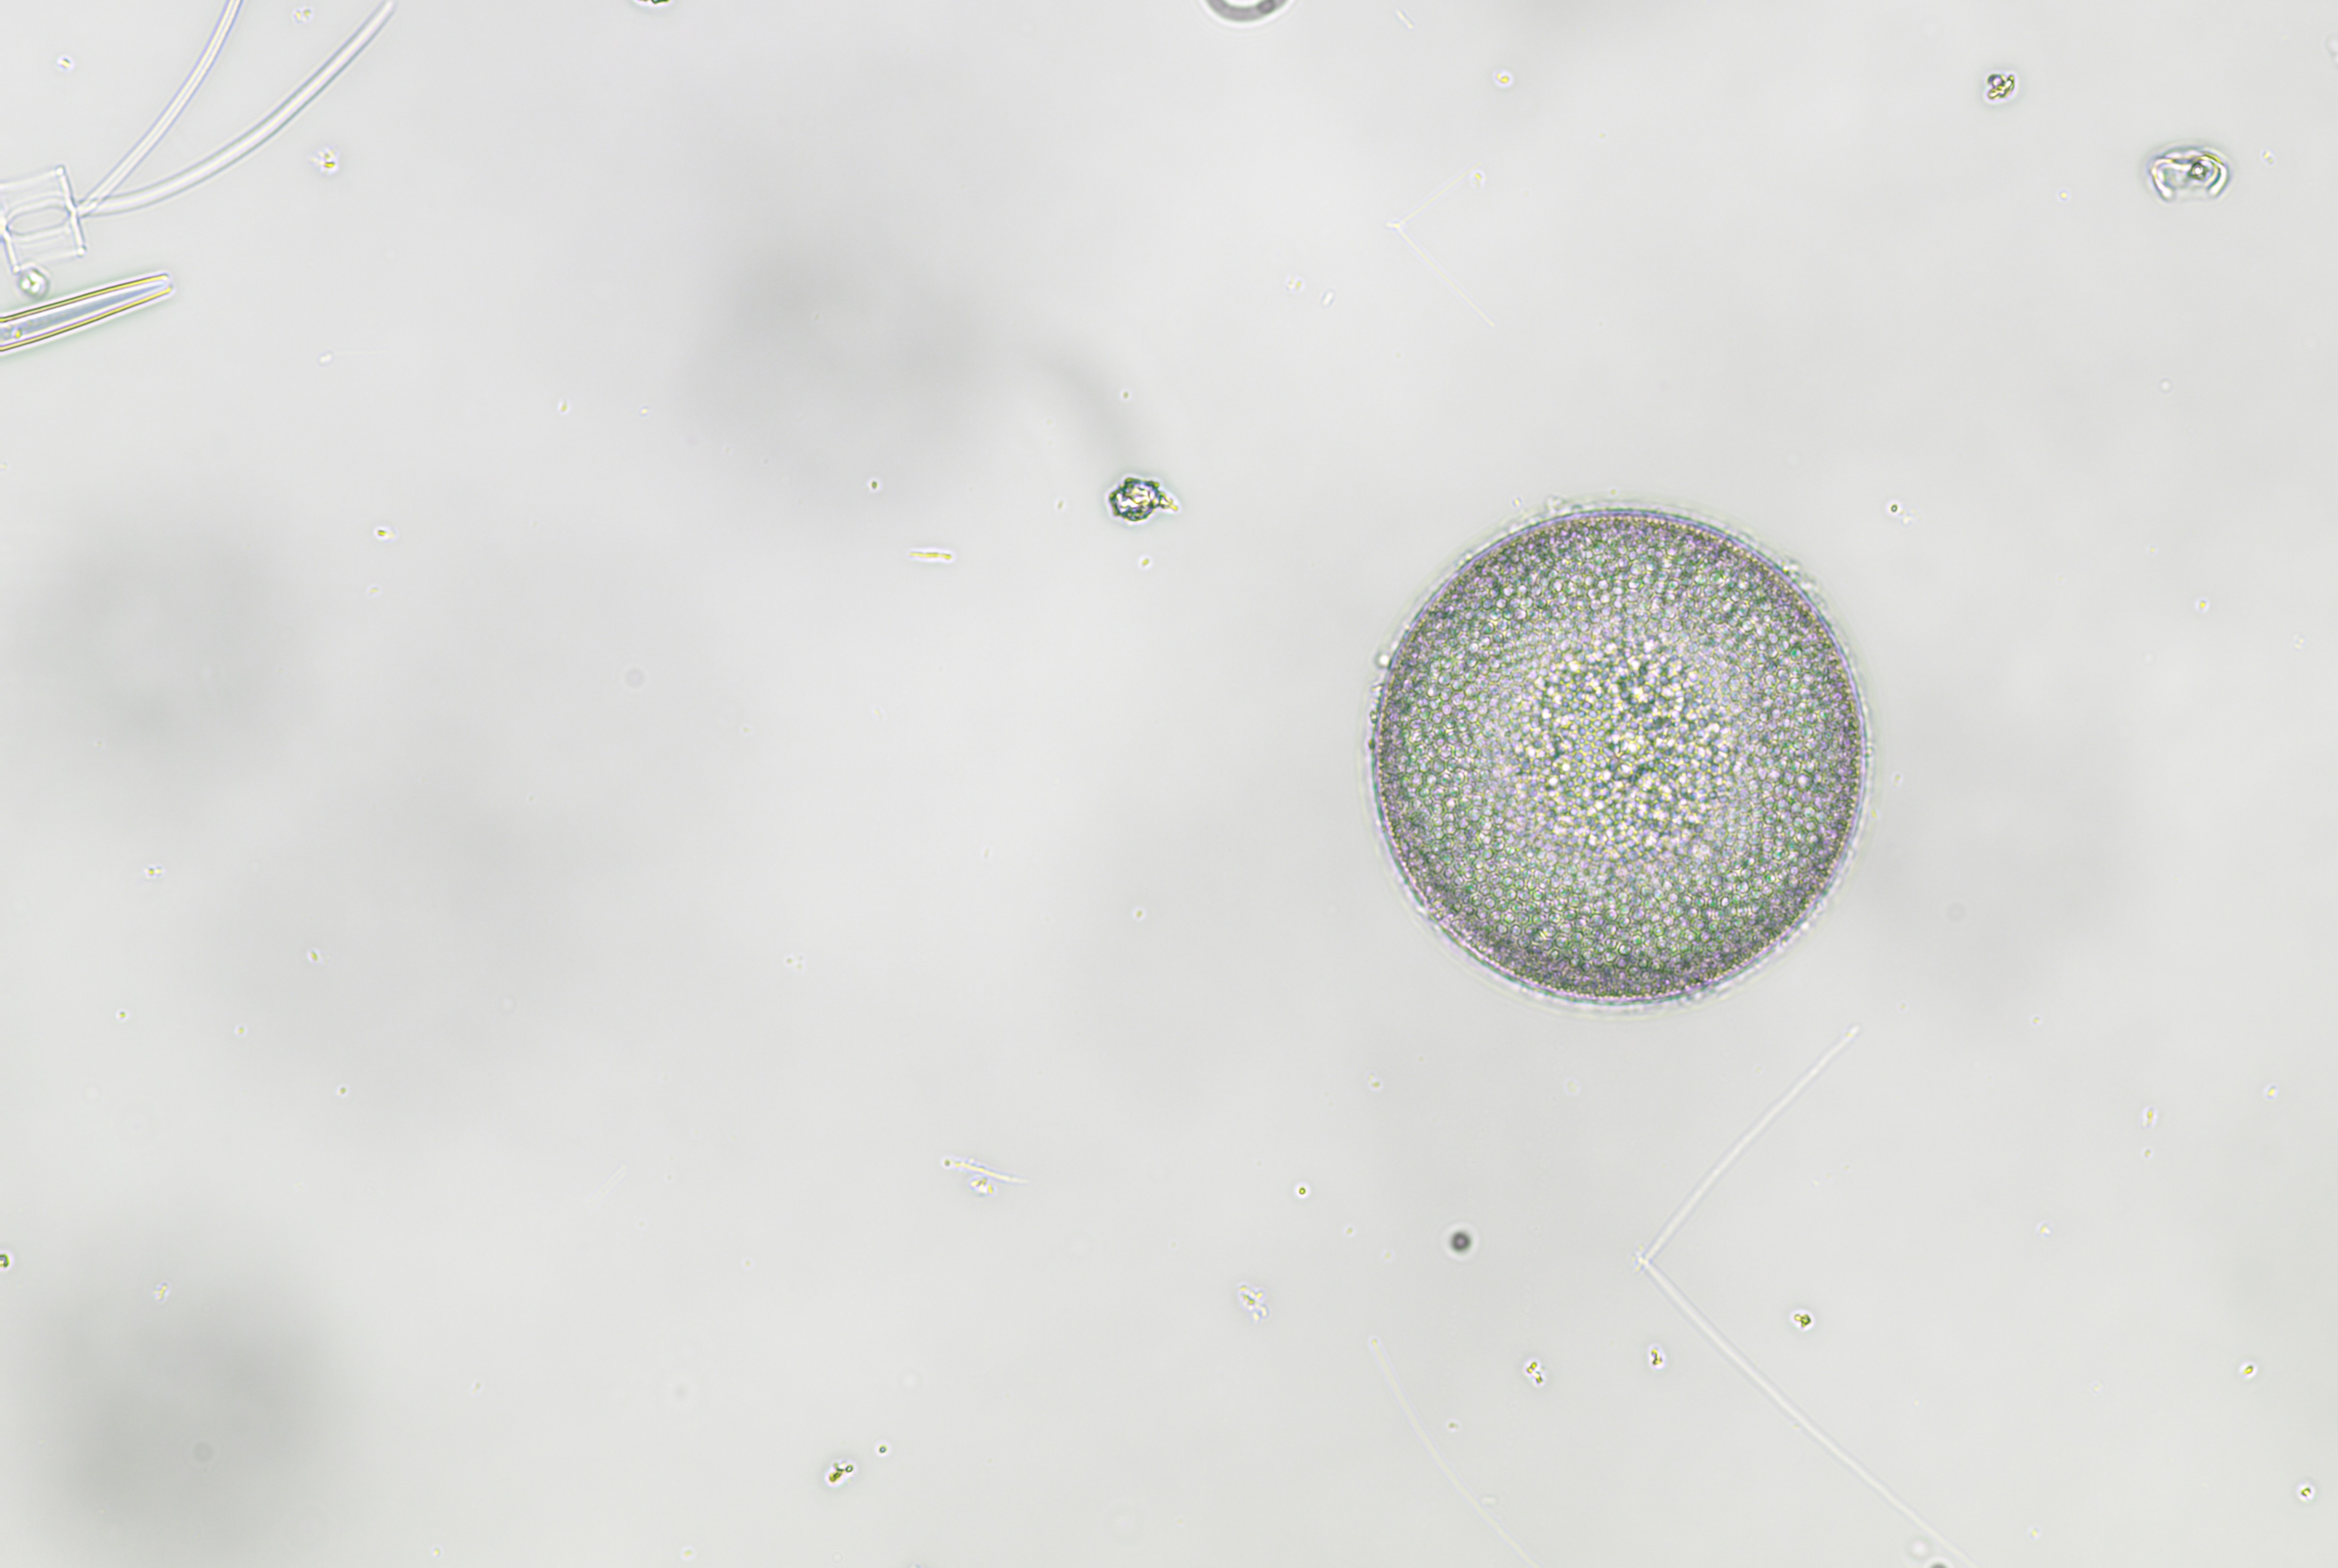coscinodiscus: (1348, 509, 1892, 1018)
